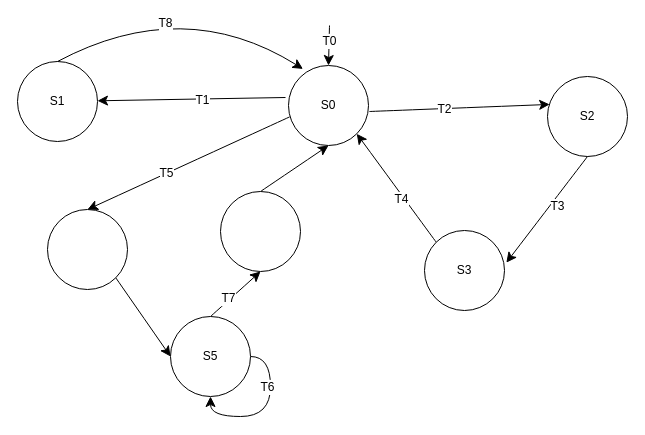
Image size: 645x435. Some labels were removed from this diagram. The centre of each missing label's shape, as x and y in pixels:
"S4" goes at pixel 87 249.
"S6" goes at pixel 260 231.
